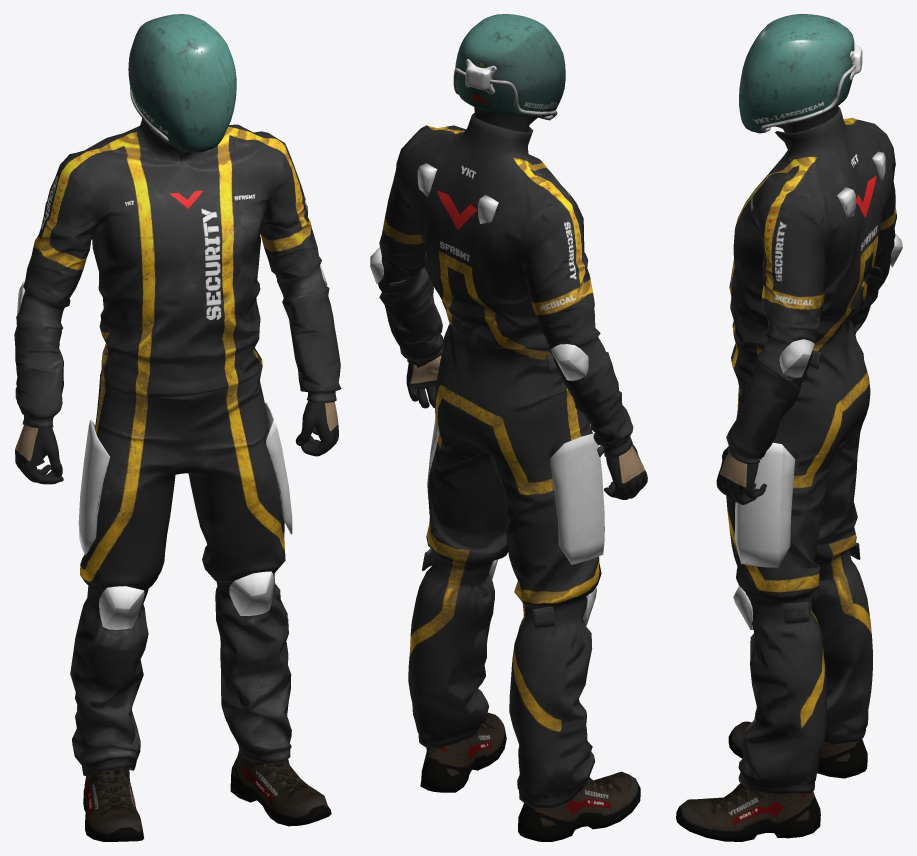
File: SUP_jumpsuit_low_poly.glb
3 views of the same model, side by side, from view 1: azimuth 30°, elevation 25°; view 2: azimuth 150°, elevation 25°; view 3: azimuth 270°, elevation 25° (orthographic).
Visible parts, largest first — view 1: SUP_jumpsuit_low_poly; view 2: SUP_jumpsuit_low_poly; view 3: SUP_jumpsuit_low_poly.
Boxes of the visible parts, bbox=[...] form: SUP_jumpsuit_low_poly: bbox=[14, 14, 341, 841]; SUP_jumpsuit_low_poly: bbox=[370, 14, 647, 841]; SUP_jumpsuit_low_poly: bbox=[676, 14, 902, 841].
Size of the model in its own units: 1.76 by 4.61 by 1.22.
Materials: 5 (5 with a texture image).
